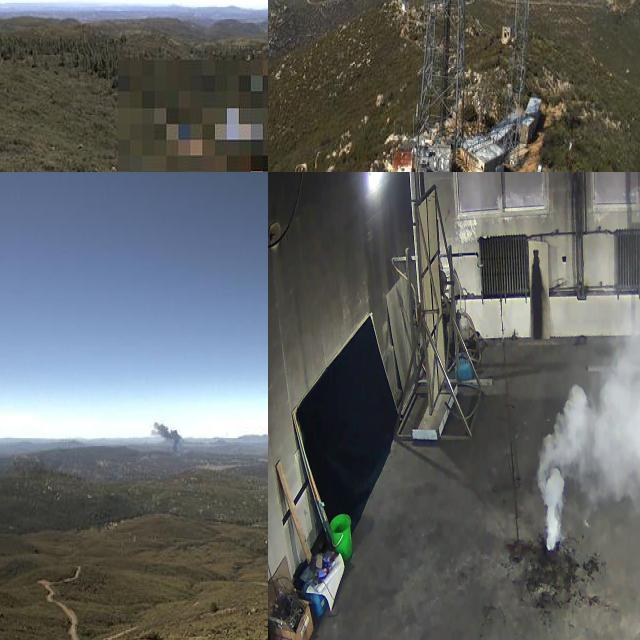smoke: (536, 324, 640, 550), (147, 417, 186, 458)
